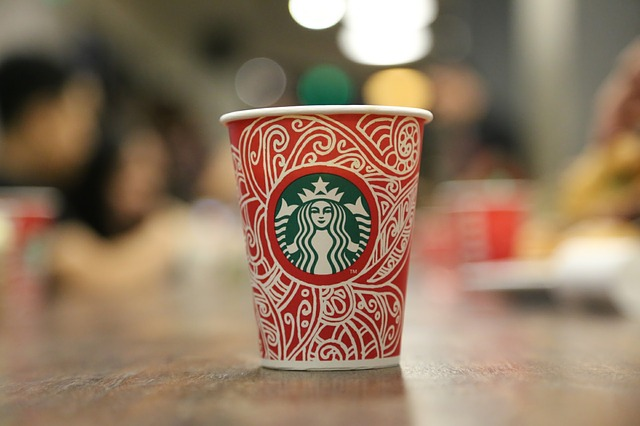cup: (204, 91, 452, 387)
